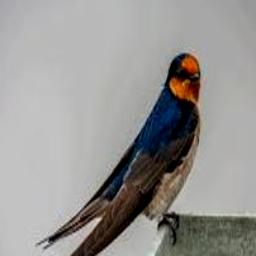Swallow: (35, 53, 200, 256)
